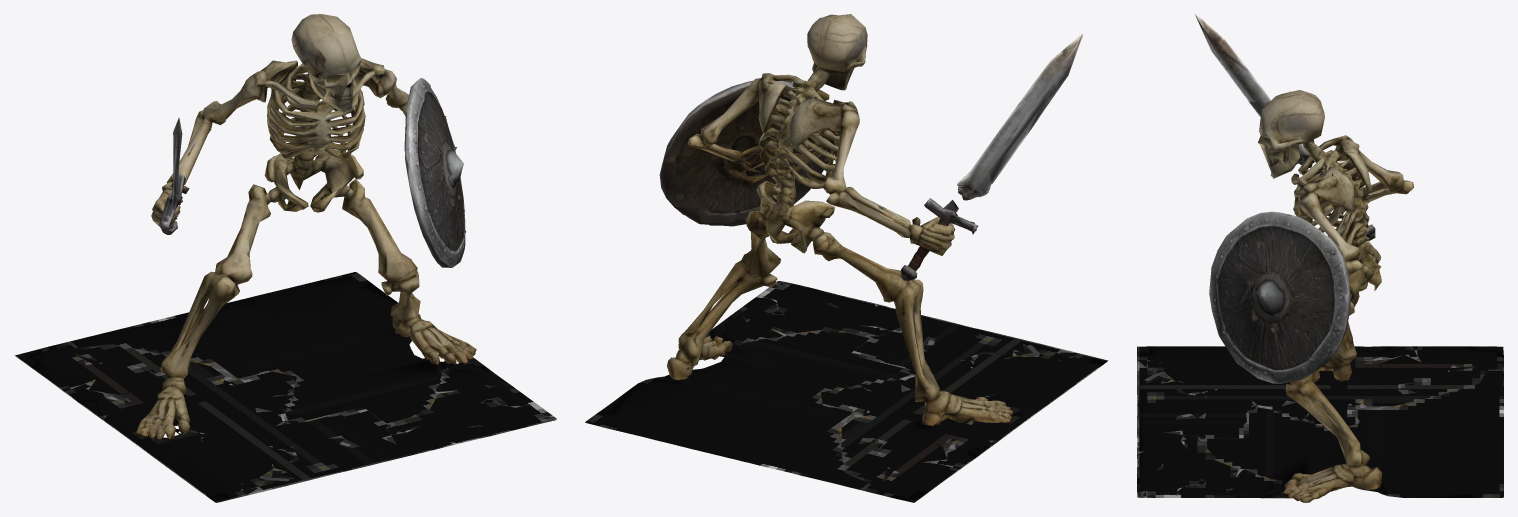
File: скелет.glb
The picture shows the model from 3 angles, left to right: view 1: azimuth 30°, elevation 25°; view 2: azimuth 150°, elevation 25°; view 3: azimuth 270°, elevation 25°; orthographic projection. The views are drawn at different scales.
Visible parts, largest first — view 1: geometry_0; view 2: geometry_0; view 3: geometry_0.
Boxes of the visible parts, x1,y1,x2,y2 form: geometry_0: [14, 14, 556, 502]; geometry_0: [585, 14, 1107, 502]; geometry_0: [1137, 14, 1503, 502].
Bounding box in the file's own units: 1 × 1 × 0.9766.
Materials: 1 (1 with a texture image).
